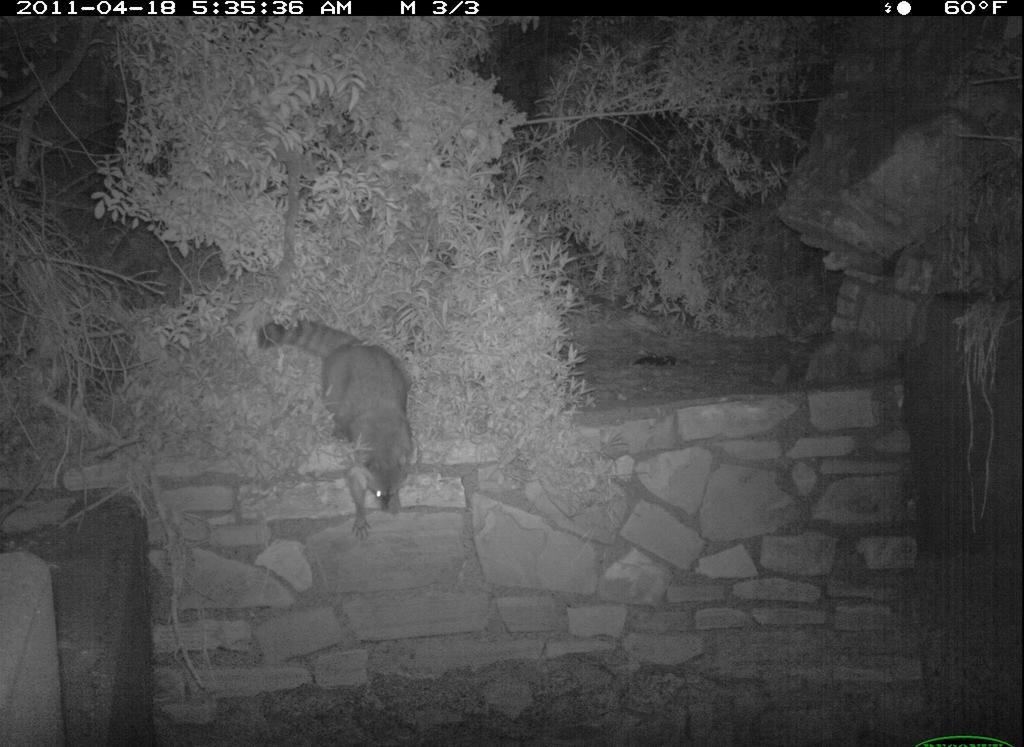raccoon: (260, 317, 418, 539)
